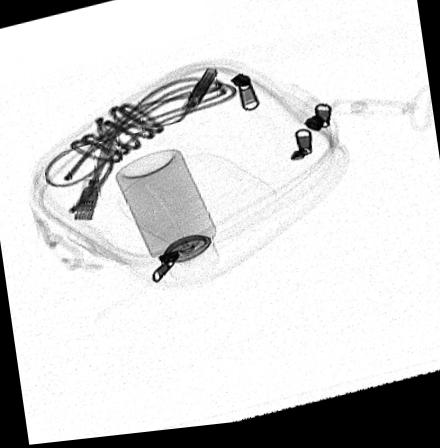Sprayer: (116, 152, 219, 284)
